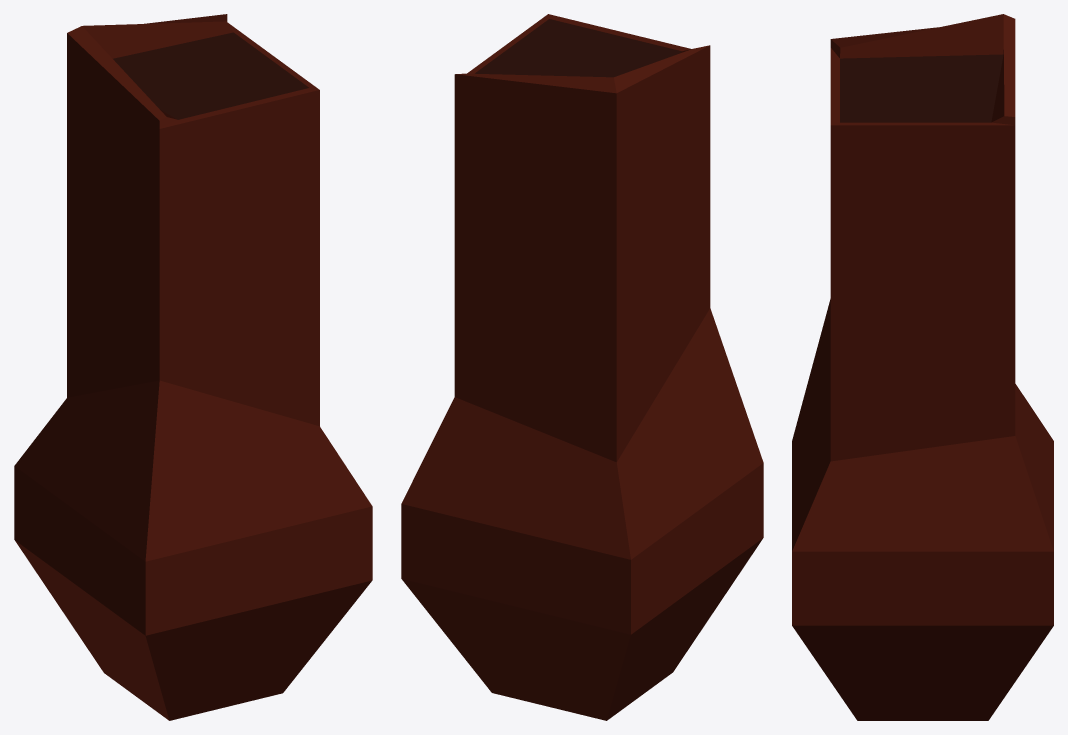
The model's file is tree_4.glb.
3 views of the same model, side by side, from view 1: azimuth 30°, elevation 25°; view 2: azimuth 150°, elevation 25°; view 3: azimuth 270°, elevation 25° (orthographic).
Visible parts, largest first — view 1: Cube.003; view 2: Cube.003; view 3: Cube.003.
Boxes of the visible parts, bbox=[...] form: Cube.003: bbox=[14, 14, 372, 720]; Cube.003: bbox=[401, 14, 763, 720]; Cube.003: bbox=[792, 14, 1053, 720].
Size of the model in its own units: 1.6 by 4.36 by 1.6.
1 material, 1 textured.
